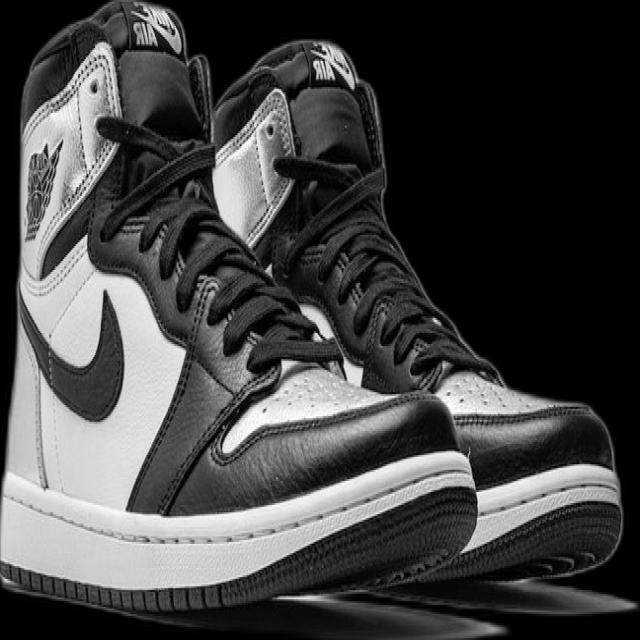J1_MateComp: (0, 0, 479, 615), (209, 36, 624, 590)
J1_ShoeLogo: (22, 139, 63, 241), (124, 1, 185, 56)
J1_StitchPattern: (20, 40, 344, 384), (0, 463, 479, 613), (274, 157, 502, 390), (130, 195, 343, 378), (360, 469, 623, 590), (20, 40, 125, 276), (154, 361, 282, 515), (212, 86, 302, 252), (1, 559, 225, 613), (20, 40, 123, 142), (221, 292, 342, 375), (431, 367, 590, 426), (245, 329, 346, 376), (438, 369, 514, 414), (323, 247, 369, 309), (303, 40, 358, 90)
